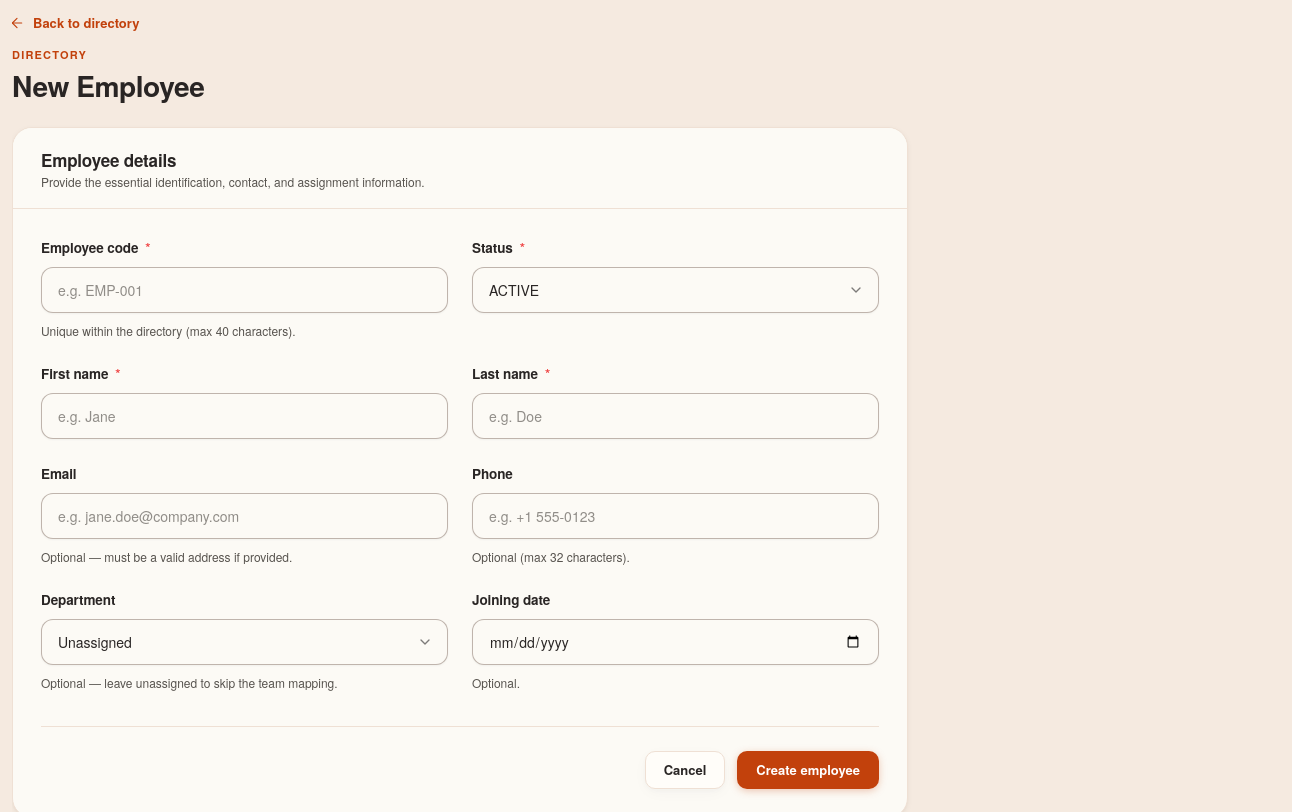
Test case: NewEmployeePage › shows the backend error when the create is rejected
The image size is (1292, 812).
Step 1. Type "EMP999" into the field labelled "Employee code *" → (244, 290), box [41,267,448,313]
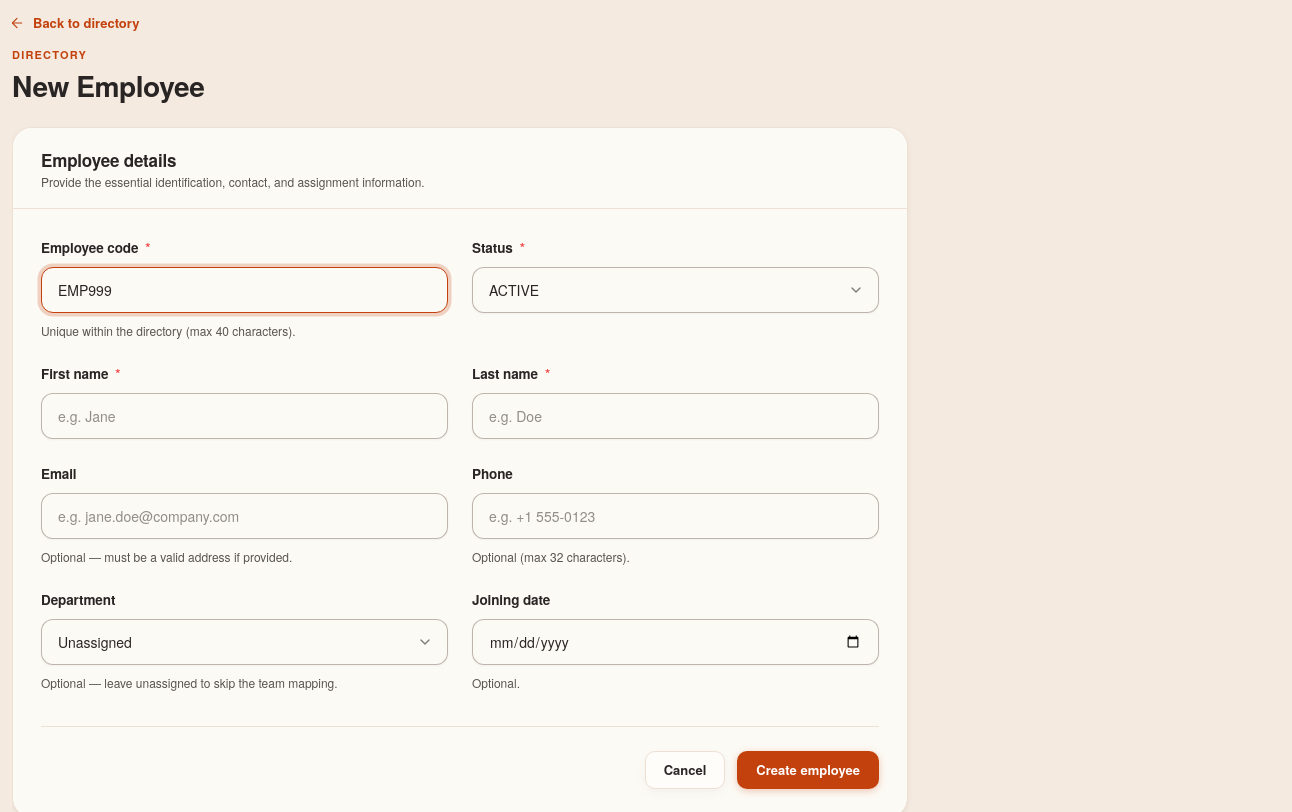
Step 2. Type "Ada" into the field labelled "First name *" → (244, 416), box [41,393,448,439]
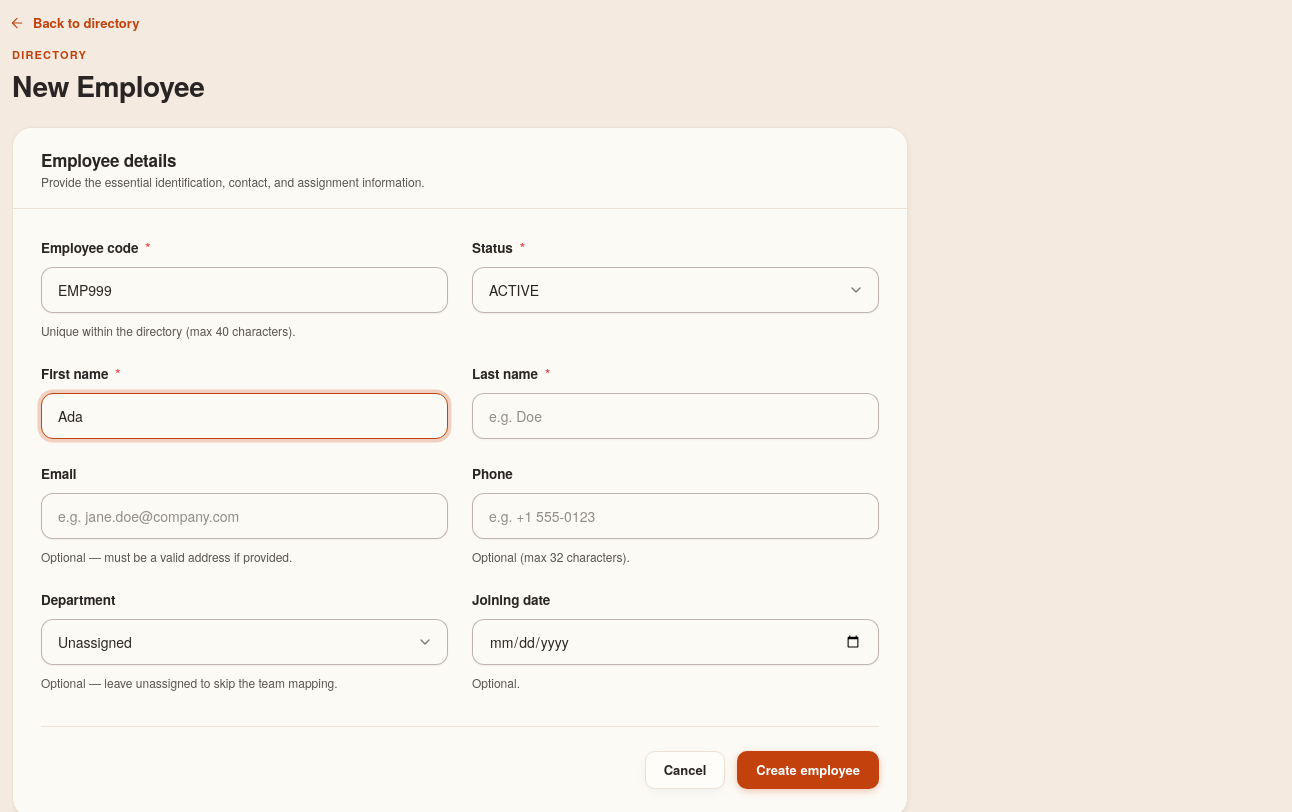
Step 3. Type "Lovelace" into the field labelled "Last name *" → (676, 416), box [472,393,879,439]
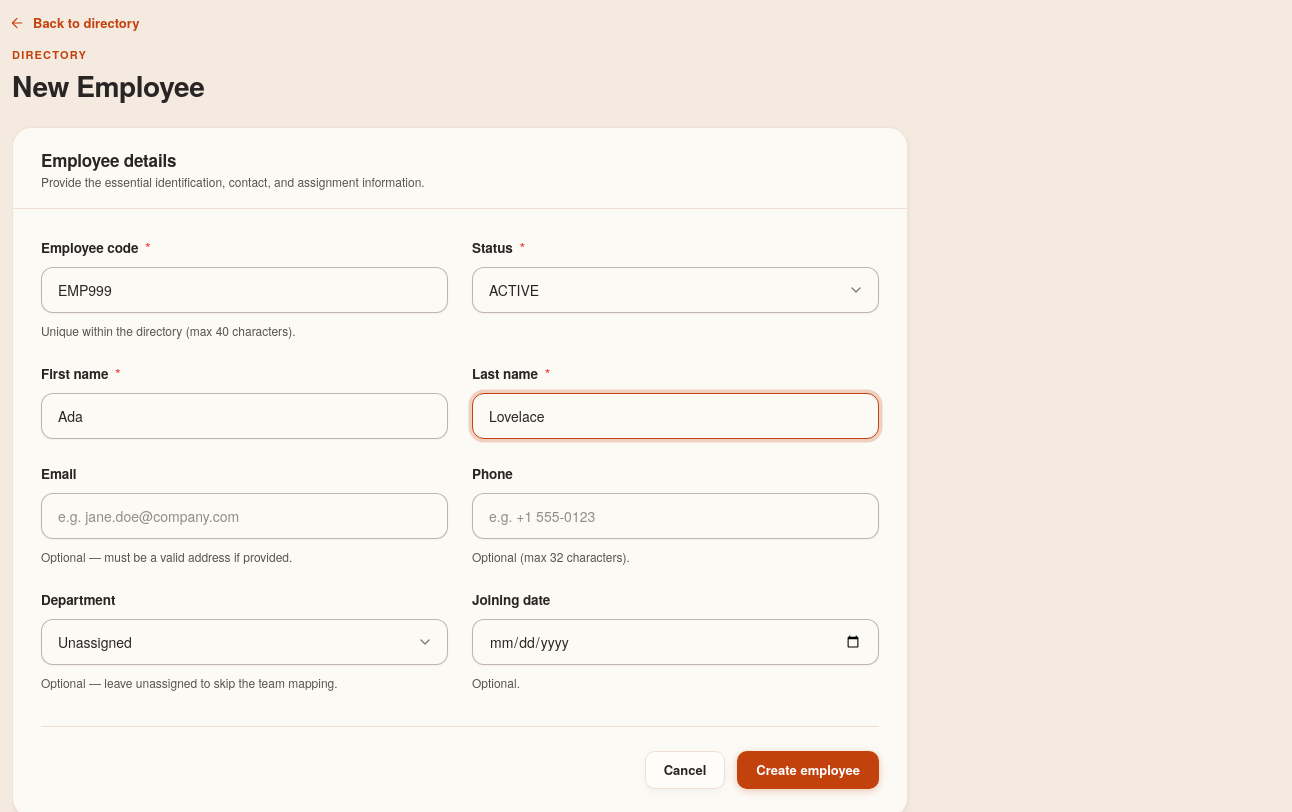
Step 4. Click the button "Create employee" → (808, 770), box [737,751,879,789]
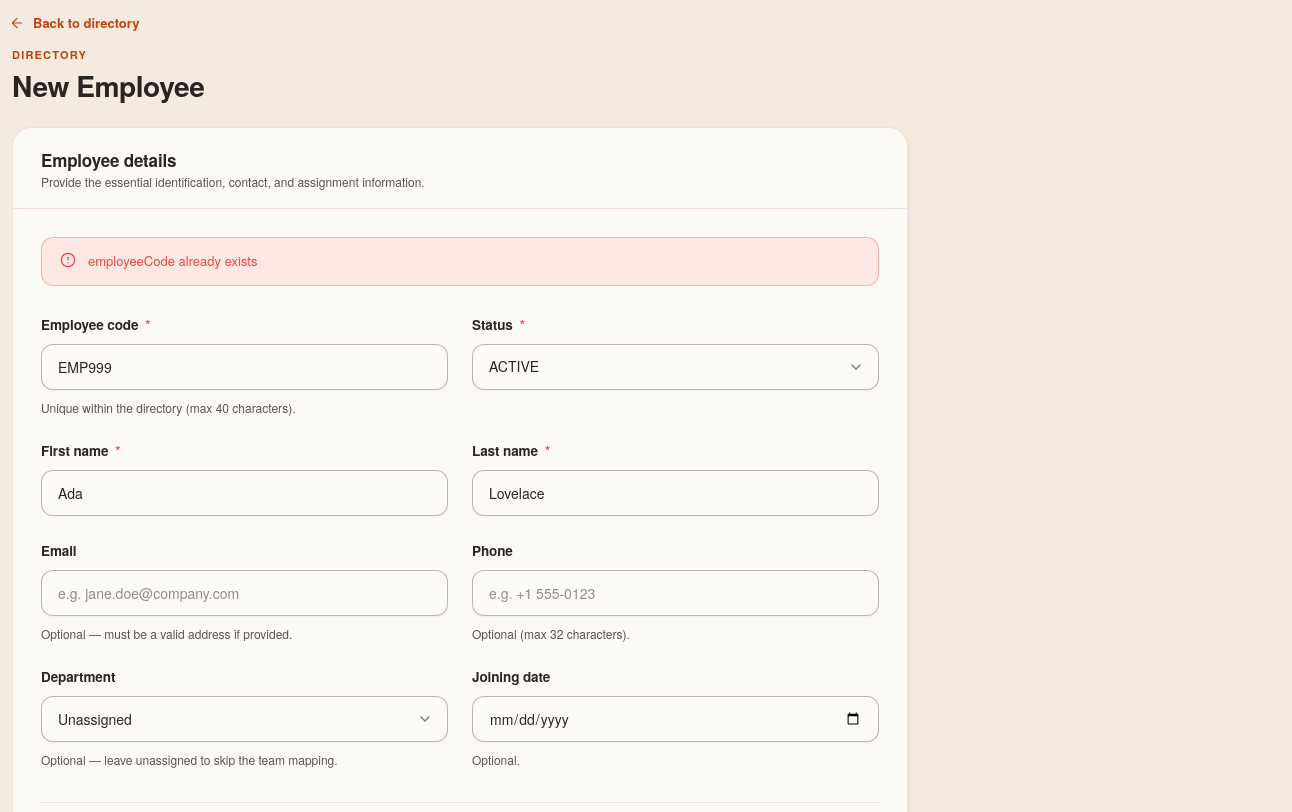
Expected: the message reads "employeeCode already exists", [88,251,258,270]
